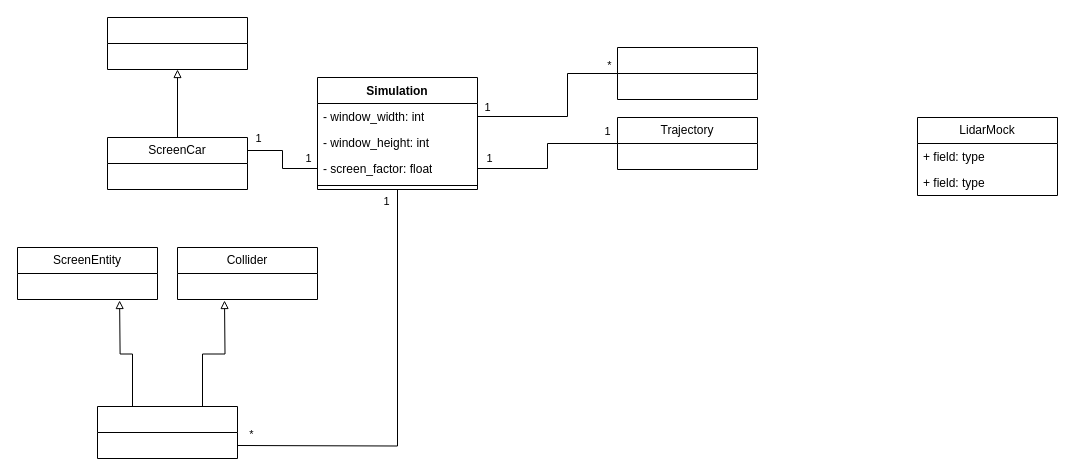
This 1075x476 diagram has some shape labels left out. The shapes that lost their labels are listed below. From the top down, each one's box as (x1, y1, x2, y2) in pixels, then its label:
(106, 16, 248, 70): Car
(616, 46, 758, 100): Button
(96, 406, 238, 458): ScreenCollider
